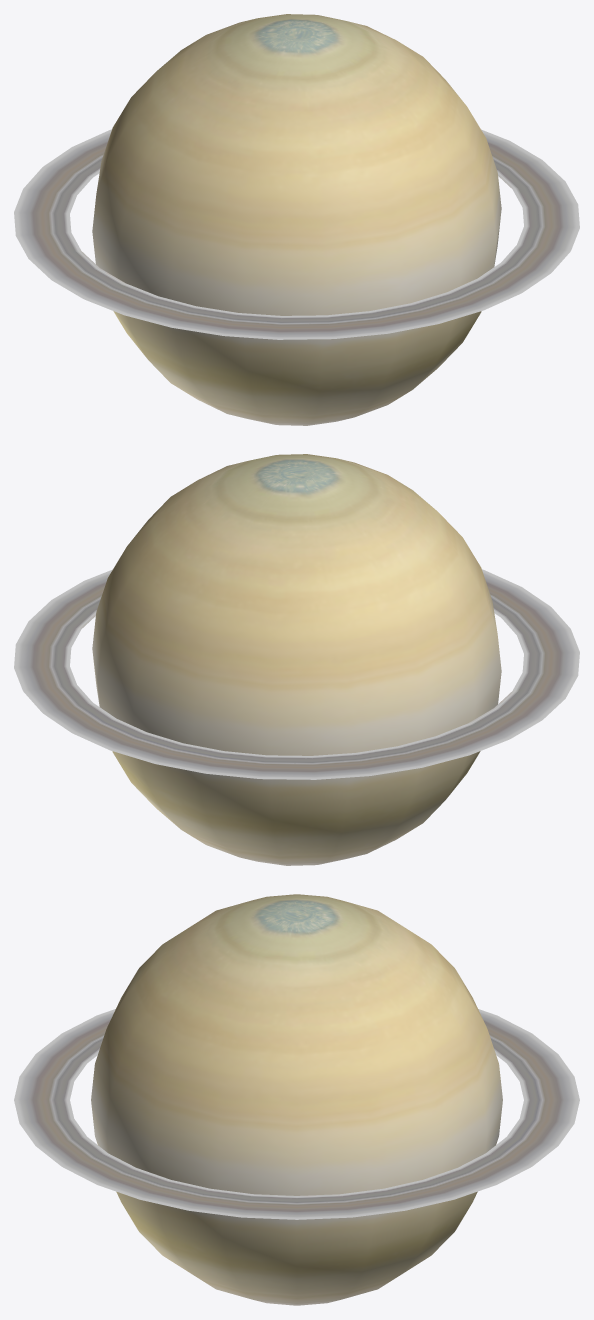
The model's file is Saturn.fbx.
The picture shows the model from 3 angles, top to bottom: view 1: azimuth 30°, elevation 25°; view 2: azimuth 150°, elevation 25°; view 3: azimuth 270°, elevation 25°; orthographic projection.
Visible parts, largest first — view 1: Saturn; view 2: Saturn; view 3: Saturn.
Part boxes in pixels (x1,y1,x2,y2): Saturn: (14,14,579,425); Saturn: (14,454,579,865); Saturn: (14,894,579,1305).
Bounding box in the file's own units: 18 × 13.04 × 18.
